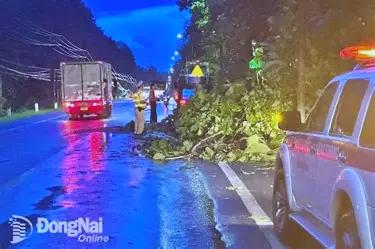ROAD_OBSTACLE: (140, 65, 330, 215)
